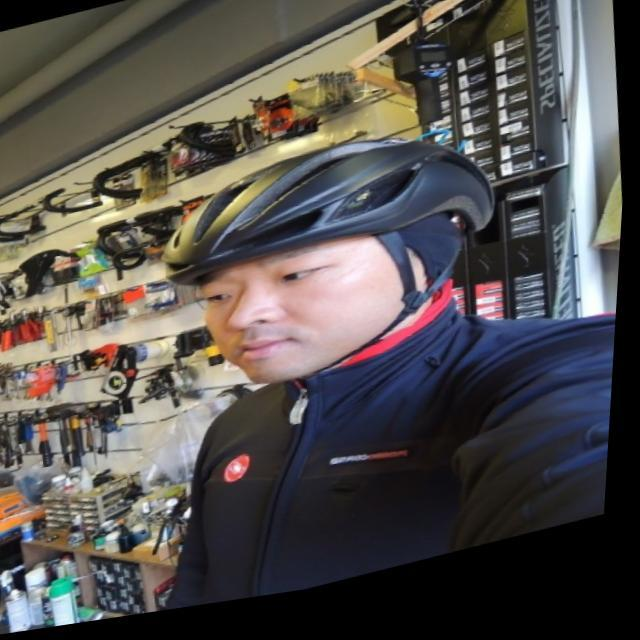Helmet: (159, 135, 496, 395)
